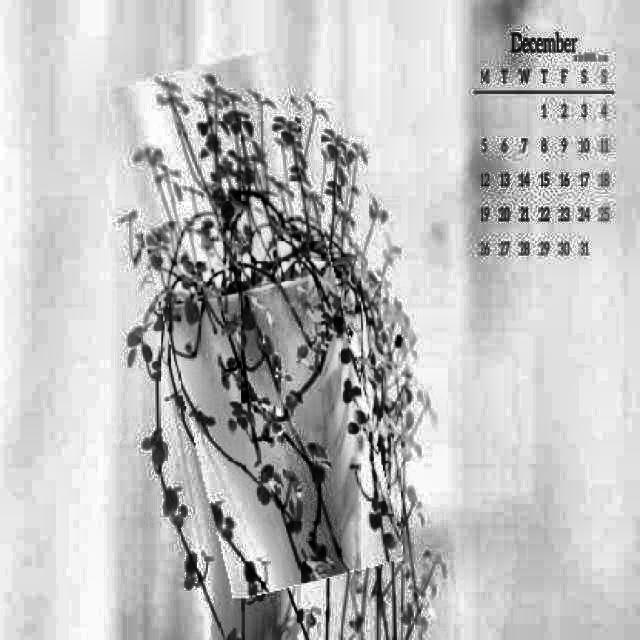plants: (139, 55, 375, 594)
